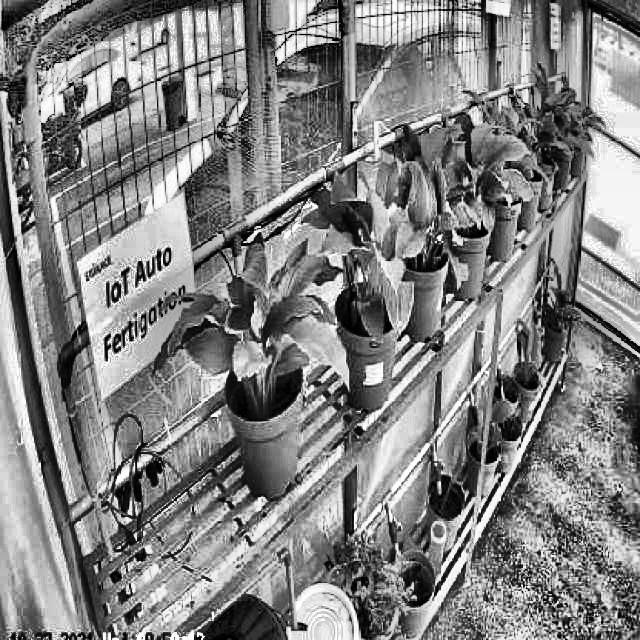plants: (153, 234, 350, 410), (307, 173, 413, 330), (370, 125, 467, 286), (426, 105, 532, 221)
